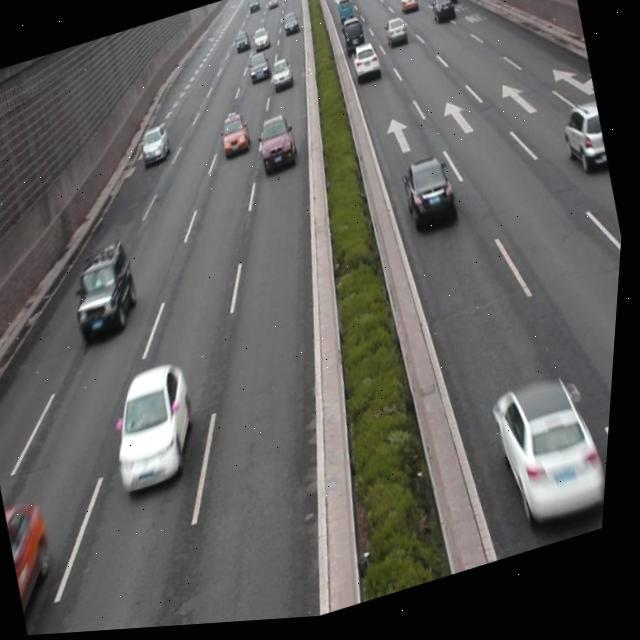car: (487, 373, 619, 542), (105, 360, 218, 500), (64, 242, 150, 347), (4, 491, 73, 612), (398, 157, 466, 241), (555, 102, 615, 189), (251, 113, 303, 179), (214, 109, 256, 163), (137, 125, 176, 168)
